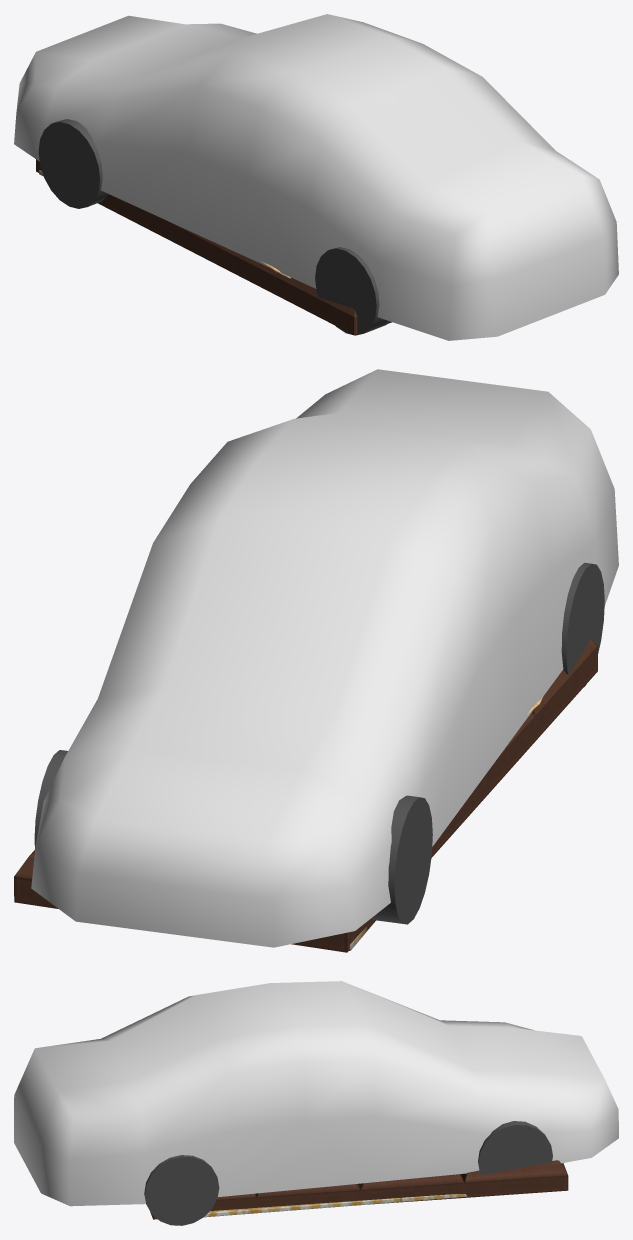
The model's file is QHW_XINITI.fbx.
3 renders of one model, top to bottom at view 1: azimuth 30°, elevation 25°; view 2: azimuth 150°, elevation 25°; view 3: azimuth 270°, elevation 25°, orthographic. The views are drawn at different scales.
Parts seen in each view (by area): view 1: xiaoche2, qiaokeli; view 2: xiaoche2, qiaokeli; view 3: xiaoche2, qiaokeli, haitaibinggan.
Boxes of the visible parts, bbox=[...] form: xiaoche2: bbox=[14, 14, 618, 340]; qiaokeli: bbox=[36, 159, 391, 334]; xiaoche2: bbox=[31, 369, 618, 947]; qiaokeli: bbox=[14, 639, 597, 952]; xiaoche2: bbox=[14, 981, 618, 1225]; qiaokeli: bbox=[150, 1160, 568, 1219]; haitaibinggan: bbox=[204, 1194, 466, 1217].
Bounding box in the file's own units: 8.61 × 4.97 × 16.7.
